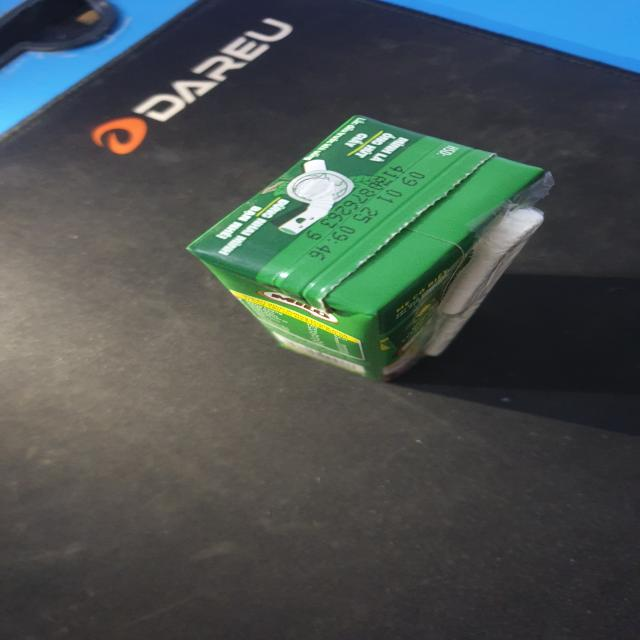Milo: (182, 114, 557, 387)
